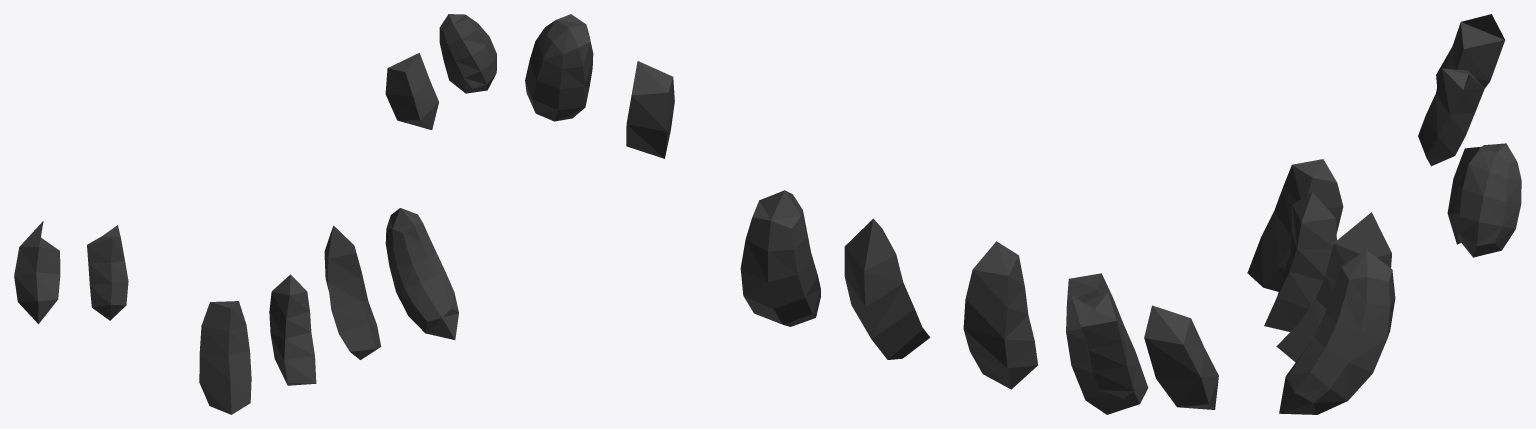
The model's file is Proximal_R.glb.
3 views of the same model, side by side, from view 1: azimuth 30°, elevation 25°; view 2: azimuth 150°, elevation 25°; view 3: azimuth 270°, elevation 25° (orthographic). The views are drawn at different scales.
Parts seen in each view (by area): view 1: Proximal_R; view 2: Proximal_R; view 3: Proximal_R.
Part boxes in pixels (x1,y1,x2,y2): Proximal_R: (14, 14, 496, 414); Proximal_R: (525, 14, 1218, 414); Proximal_R: (1247, 14, 1521, 414).
Size of the model in its own units: 2.32 by 1.21 by 0.8687.
Materials: 1 (1 with a texture image).
